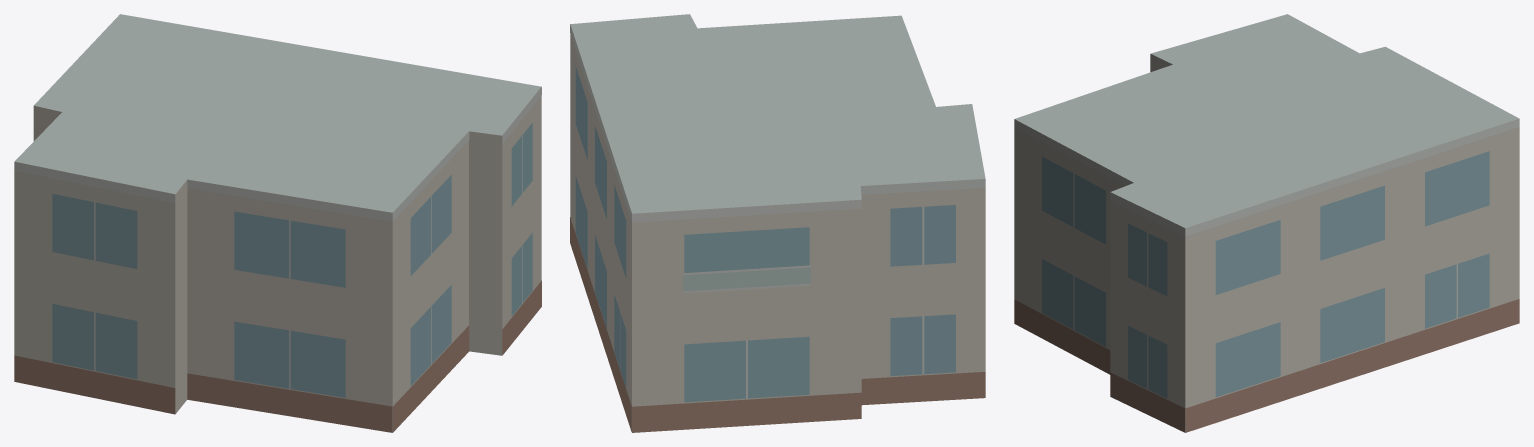
The model's file is survey-upis-32795825.glb.
3 views of the same model, side by side, from view 1: azimuth 30°, elevation 25°; view 2: azimuth 150°, elevation 25°; view 3: azimuth 270°, elevation 25° (orthographic). The views are drawn at different scales.
Visible parts, largest first — view 1: survey-upis-32795825.tmp; view 2: survey-upis-32795825.tmp; view 3: survey-upis-32795825.tmp.
Boxes of the visible parts, box(x1,y1,x2,y2) form: survey-upis-32795825.tmp: box(14, 14, 541, 432); survey-upis-32795825.tmp: box(570, 14, 985, 432); survey-upis-32795825.tmp: box(1014, 14, 1519, 432).
Size of the model in its own units: 13.71 by 6.1 by 13.66.
